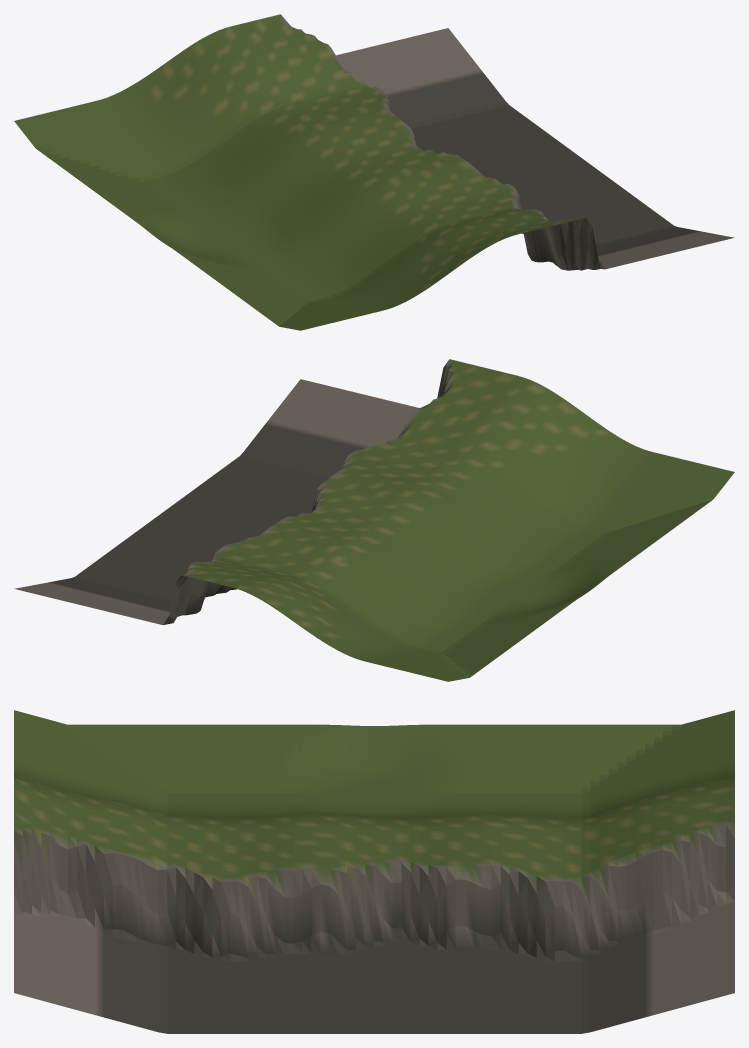
File: campo-acantilado.glb
The picture shows the model from 3 angles, top to bottom: view 1: azimuth 30°, elevation 25°; view 2: azimuth 150°, elevation 25°; view 3: azimuth 270°, elevation 25°; orthographic projection. The views are drawn at different scales.
Visible parts, largest first — view 1: campo-acantilado-0; view 2: campo-acantilado-0; view 3: campo-acantilado-0.
Part boxes in pixels (x1=…): campo-acantilado-0: x1=14, y1=14, x2=734, y2=330; campo-acantilado-0: x1=14, y1=359, x2=734, y2=681; campo-acantilado-0: x1=14, y1=710, x2=734, y2=1033.
Bounding box in the file's own units: 210 × 41 × 240.
